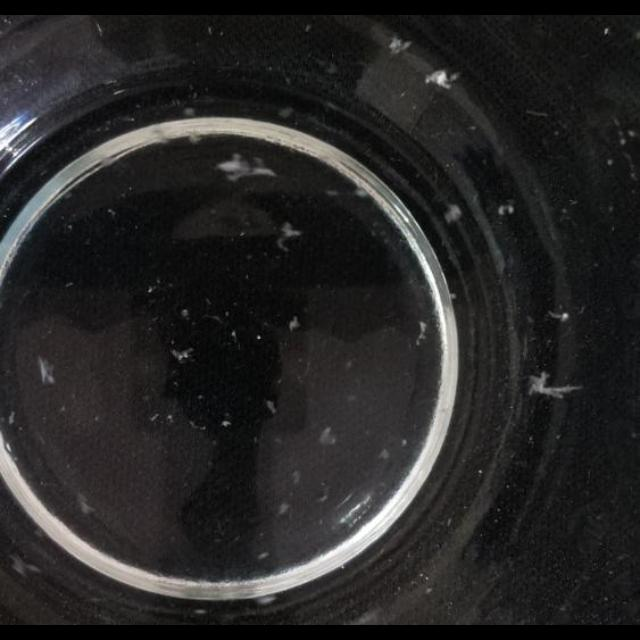Fibre: (216, 154, 278, 182), (528, 372, 582, 400), (275, 222, 303, 252), (428, 68, 460, 90), (38, 355, 56, 385), (387, 36, 411, 56), (77, 495, 97, 515), (171, 346, 195, 362), (443, 204, 462, 224), (318, 426, 336, 446), (414, 320, 428, 344), (498, 204, 514, 218), (289, 316, 301, 332), (266, 401, 276, 415), (7, 412, 16, 426)
microbeads: (8, 553, 40, 579), (276, 503, 290, 517), (378, 448, 389, 460), (148, 412, 160, 422), (292, 470, 300, 484), (180, 308, 190, 318), (559, 311, 569, 321), (107, 208, 117, 218), (257, 552, 269, 560), (221, 420, 231, 428), (230, 330, 238, 340), (166, 413, 174, 423), (400, 438, 408, 447), (147, 286, 155, 294), (449, 293, 457, 301), (606, 158, 614, 166), (426, 586, 434, 594), (477, 468, 483, 476), (256, 334, 262, 342)
